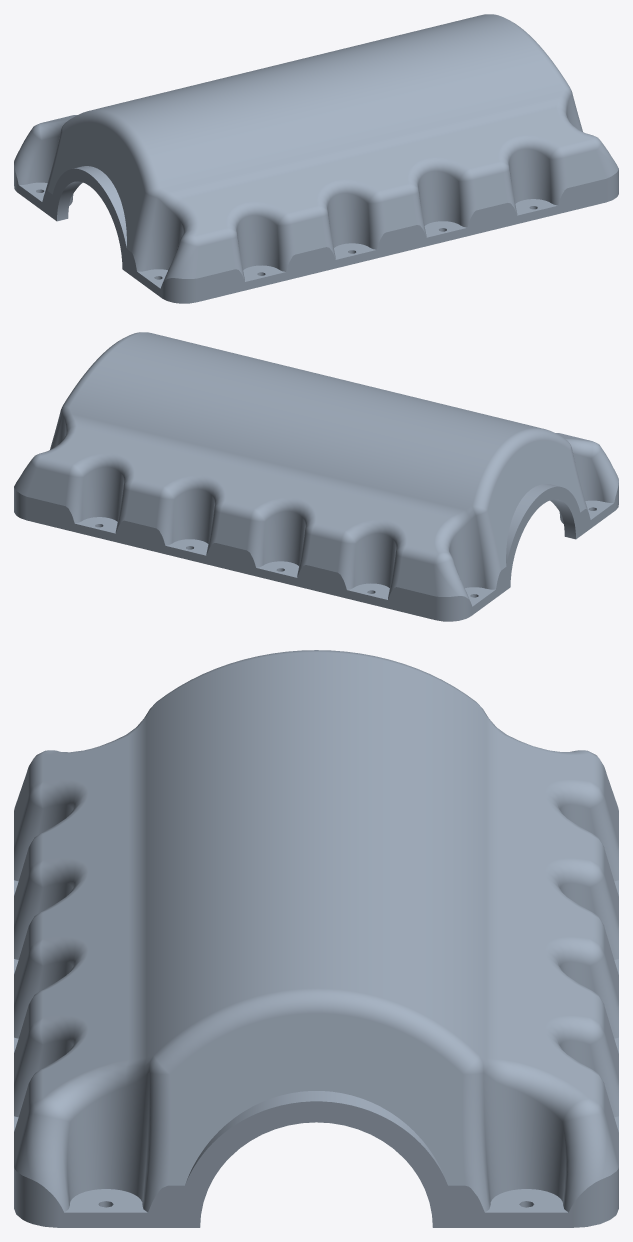
File: oil_pan.obj
The picture shows the model from 3 angles, top to bottom: view 1: azimuth 30°, elevation 25°; view 2: azimuth 150°, elevation 25°; view 3: azimuth 270°, elevation 25°; orthographic projection. The views are drawn at different scales.
Visible parts, largest first — view 1: 1; view 2: 1; view 3: 1.
Boxes of the visible parts, x1,y1,x2,y2 form: 1: (14, 14, 618, 303); 1: (14, 332, 618, 621); 1: (14, 650, 618, 1227).
Bounding box in the file's own units: 508 × 127 × 330.
